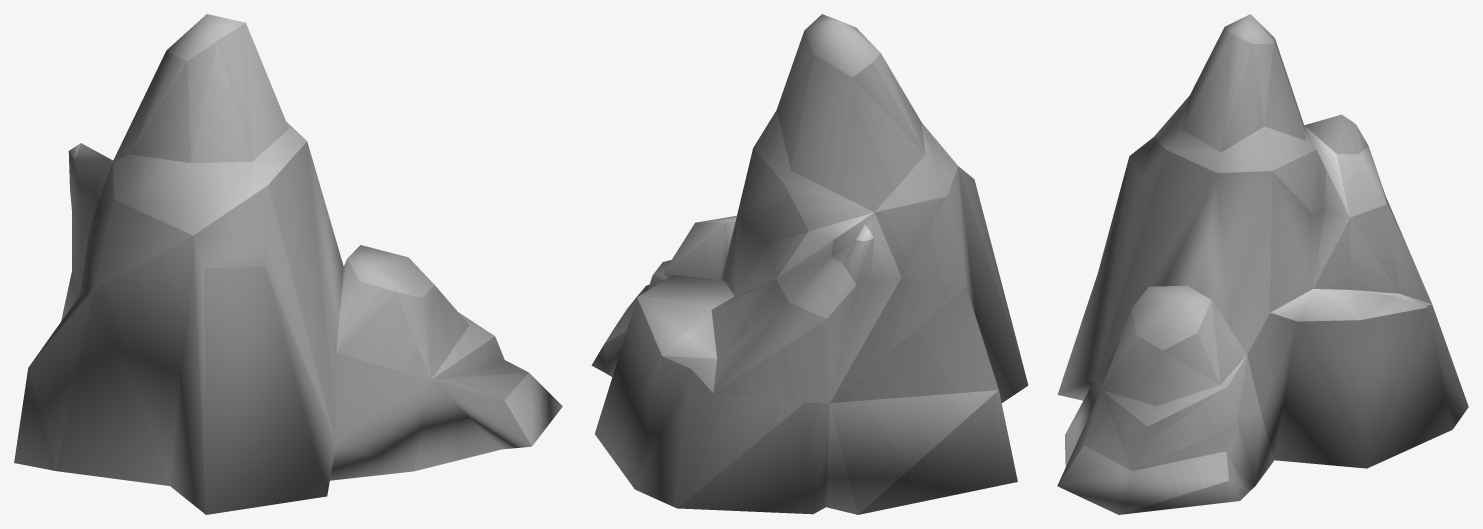
The model's file is GL-Rock-07.fbx.
3 renders of one model, left to right at view 1: azimuth 30°, elevation 25°; view 2: azimuth 150°, elevation 25°; view 3: azimuth 270°, elevation 25°, orthographic. The views are drawn at different scales.
Visible parts, largest first — view 1: GL-Rock-07; view 2: GL-Rock-07; view 3: GL-Rock-07.
Part boxes in pixels (x1,y1,x2,y2): GL-Rock-07: (14, 14, 562, 514); GL-Rock-07: (591, 14, 1028, 514); GL-Rock-07: (1057, 14, 1468, 514).
Size of the model in its own units: 9.18 by 7.64 by 7.61.
